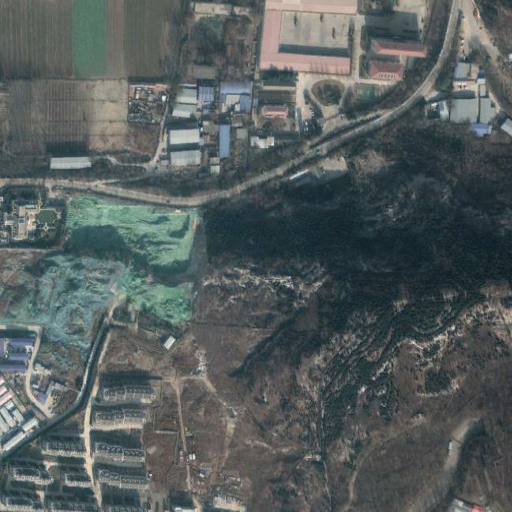cw: (7, 190, 200, 373)
